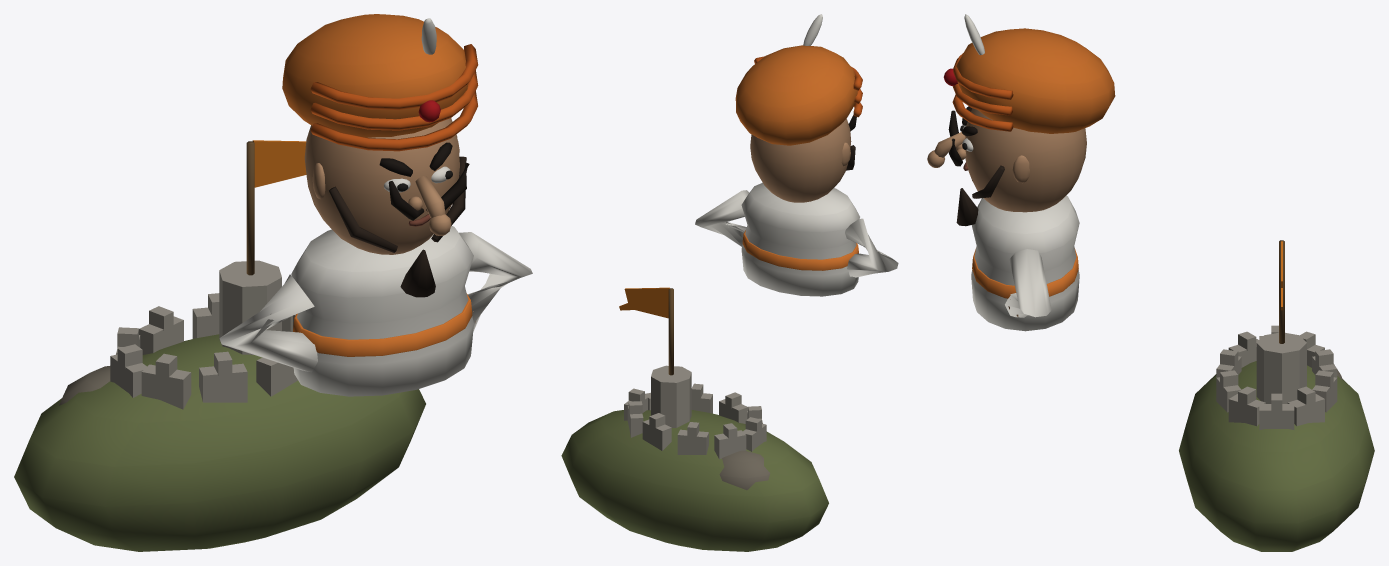
3 views of the same model, side by side, from view 1: azimuth 30°, elevation 25°; view 2: azimuth 150°, elevation 25°; view 3: azimuth 270°, elevation 25° (orthographic). The views are drawn at different scales.
Parts seen in each view (by area): view 1: fig_props, fig_head, fig_body; view 2: fig_props, fig_head, fig_body; view 3: fig_props, fig_head, fig_body.
Part boxes in pixels (x1,y1,x2,y2): fig_props: [14, 140, 425, 551]; fig_head: [282, 14, 478, 297]; fig_body: [219, 226, 532, 396]; fig_props: [561, 287, 828, 551]; fig_head: [735, 14, 862, 202]; fig_body: [695, 182, 898, 296]; fig_props: [1179, 240, 1374, 551]; fig_head: [927, 14, 1115, 226]; fig_body: [971, 195, 1079, 331].
Size of the model in its own units: 1.36 by 2.24 by 1.78.
